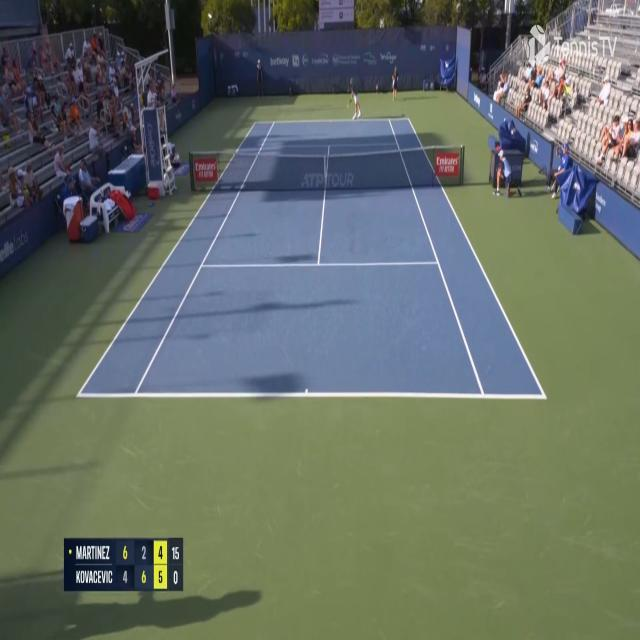tennis-player: (345, 76, 361, 121)
